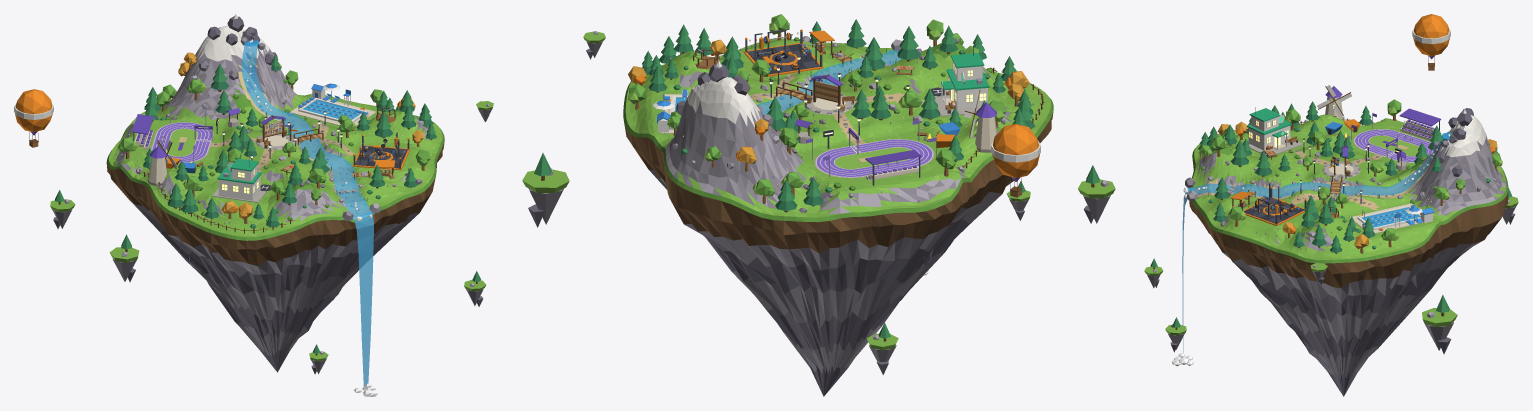
The model's file is ile-volante.glb.
3 renders of one model, left to right at view 1: azimuth 30°, elevation 25°; view 2: azimuth 150°, elevation 25°; view 3: azimuth 270°, elevation 25°, orthographic. The views are drawn at different scales.
Visible parts, largest first — view 1: Island_terrain, Nature_c_3f8f5a, River_water, Nature_c_2f7450, Nature_c_6fb04a, River_waterfall, Decor_c_f08a24, Track_c_8b6fd6, Islets_c_7fb84a, Hospital_c_f4f1ea, Islets_c_8d8793, Nature_c_e0a03c (+11 smaller); view 2: Island_terrain, Nature_c_3f8f5a, Nature_c_6fb04a, Nature_c_2f7450, Decor_c_f08a24, Track_c_8b6fd6, Islets_c_7fb84a, Islets_c_8d8793, River_water, Nature_c_e0a03c, Hospital_c_f4f1ea, Gym_c_4b4f5c (+16 smaller); view 3: Island_terrain, Nature_c_3f8f5a, River_water, Nature_c_2f7450, Nature_c_6fb04a, Decor_c_f08a24, Track_c_8b6fd6, Islets_c_7fb84a, Hospital_c_f4f1ea, Islets_c_8d8793, Island_c_6d6877, Gym_c_4b4f5c (+15 smaller).
Part boxes in pixels (x1,y1,x2,y2): Island_terrain: (106, 25, 444, 372); Nature_c_3f8f5a: (144, 55, 435, 228); River_water: (241, 40, 373, 216); Nature_c_2f7450: (143, 65, 436, 226); Nature_c_6fb04a: (117, 65, 430, 200); River_waterfall: (353, 212, 373, 386); Decor_c_f08a24: (15, 89, 395, 168); Track_c_8b6fd6: (136, 104, 211, 162); Islets_c_7fb84a: (50, 101, 493, 361); Hospital_c_f4f1ea: (218, 162, 268, 200); Islets_c_8d8793: (52, 107, 492, 373); Nature_c_e0a03c: (178, 52, 423, 219); Island_terrain: (623, 38, 1053, 396); Nature_c_3f8f5a: (642, 19, 1032, 201); Nature_c_6fb04a: (629, 14, 1006, 196); Nature_c_2f7450: (642, 38, 1035, 210); Decor_c_f08a24: (809, 30, 1039, 177); Track_c_8b6fd6: (806, 120, 935, 177); Islets_c_7fb84a: (522, 31, 1115, 350); Islets_c_8d8793: (528, 41, 1110, 361); River_water: (757, 50, 901, 114); Nature_c_e0a03c: (628, 39, 1029, 163); Hospital_c_f4f1ea: (933, 61, 987, 110); Gym_c_4b4f5c: (745, 29, 822, 72); Island_terrain: (1189, 114, 1508, 396); Nature_c_3f8f5a: (1199, 101, 1498, 249); River_water: (1189, 132, 1451, 198); Nature_c_2f7450: (1198, 114, 1440, 252); Nature_c_6fb04a: (1199, 99, 1501, 240); Decor_c_f08a24: (1230, 14, 1449, 200); Track_c_8b6fd6: (1351, 113, 1434, 162); Islets_c_7fb84a: (1144, 196, 1518, 335); Hospital_c_f4f1ea: (1248, 115, 1290, 154); Islets_c_8d8793: (1147, 206, 1516, 350); Island_c_6d6877: (1376, 108, 1473, 303); Gym_c_4b4f5c: (1241, 183, 1306, 224).
Size of the model in its own units: 62.25 by 43.79 by 49.85.
